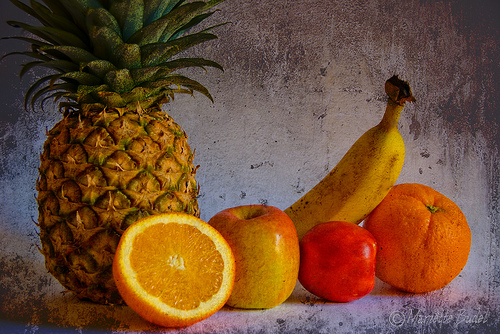pineapple: (1, 0, 236, 298)
